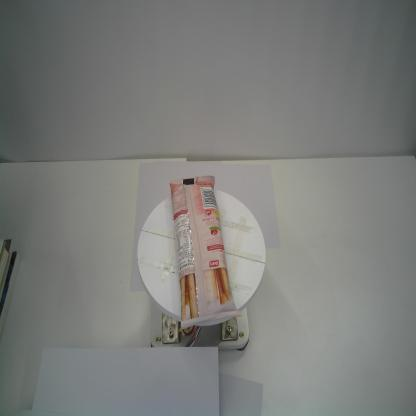Dessert: (167, 173, 245, 332)
